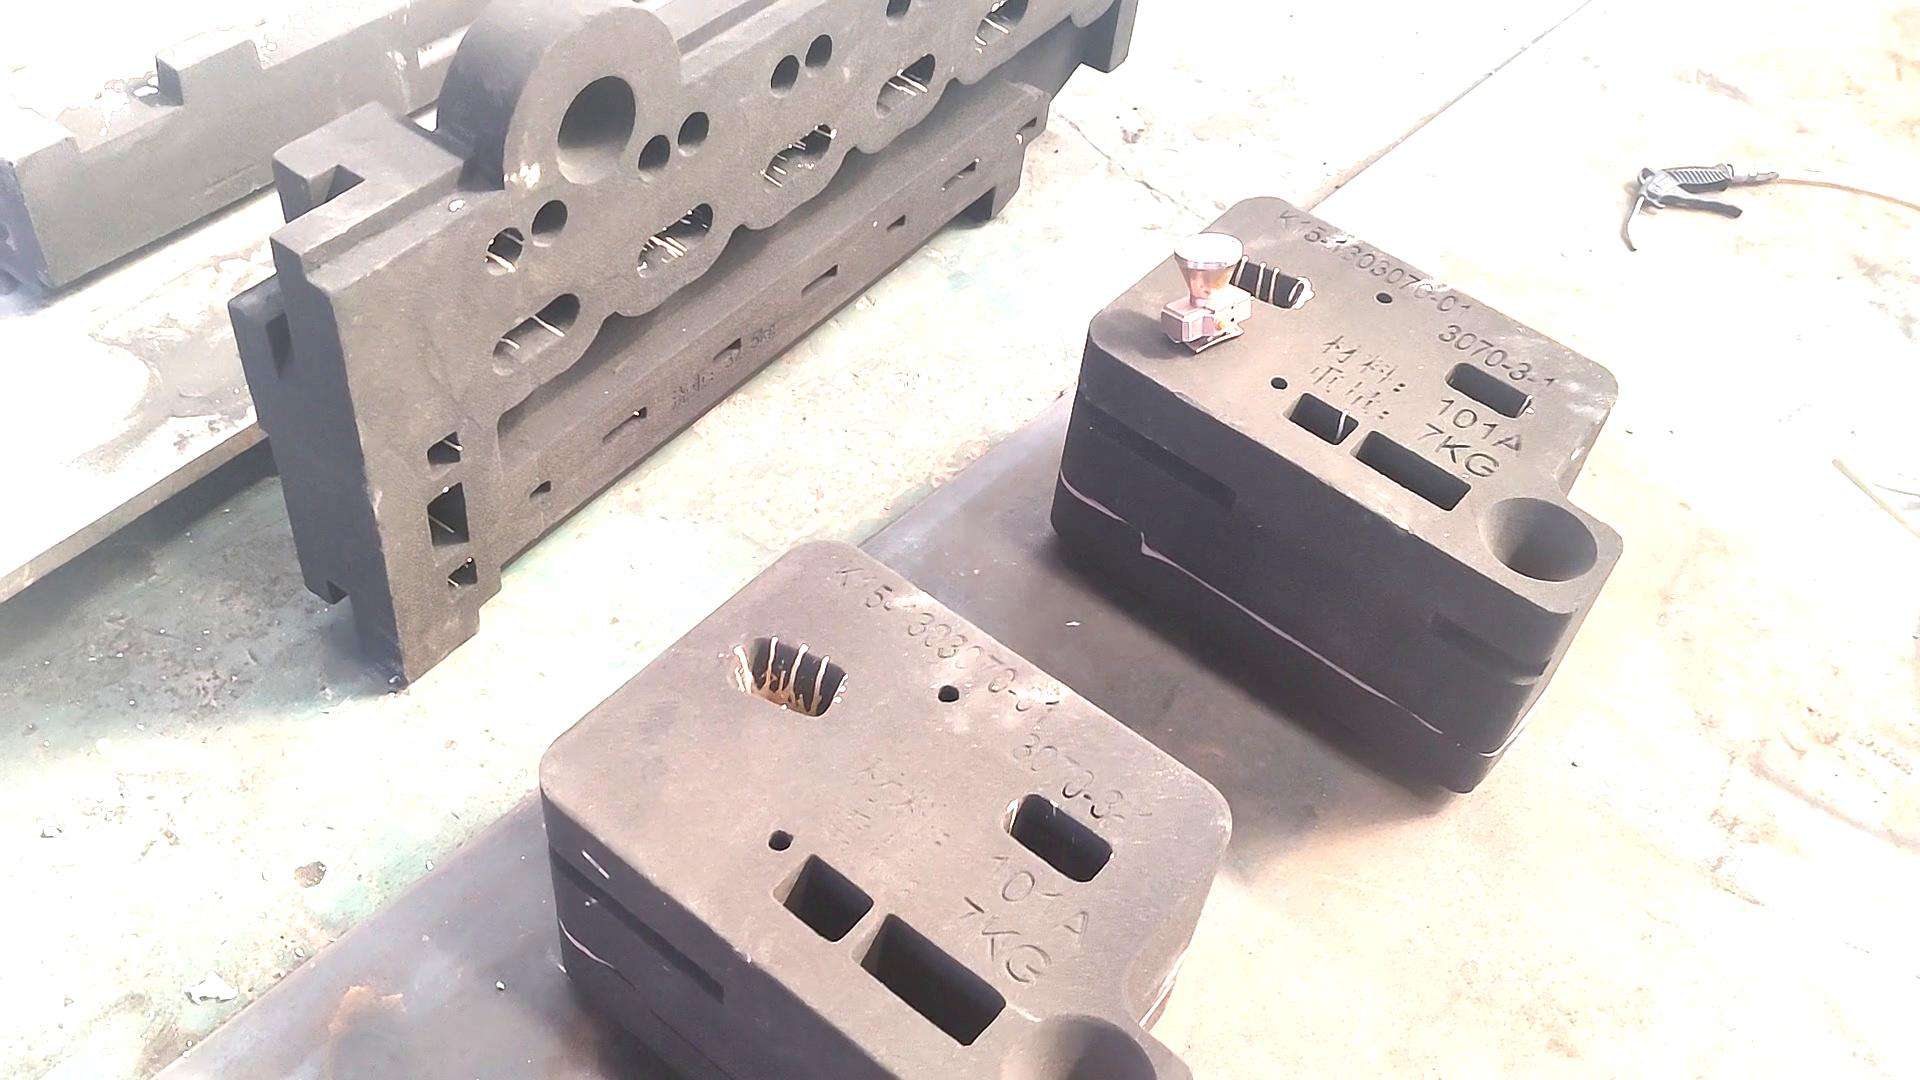pouring hole: (997, 1011, 1159, 1080), (1482, 496, 1600, 584), (556, 76, 637, 185)
